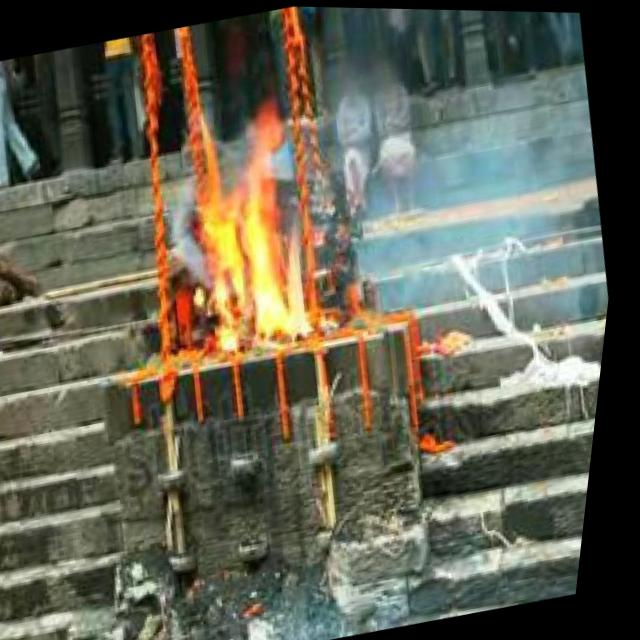Fire: (178, 120, 351, 354)
